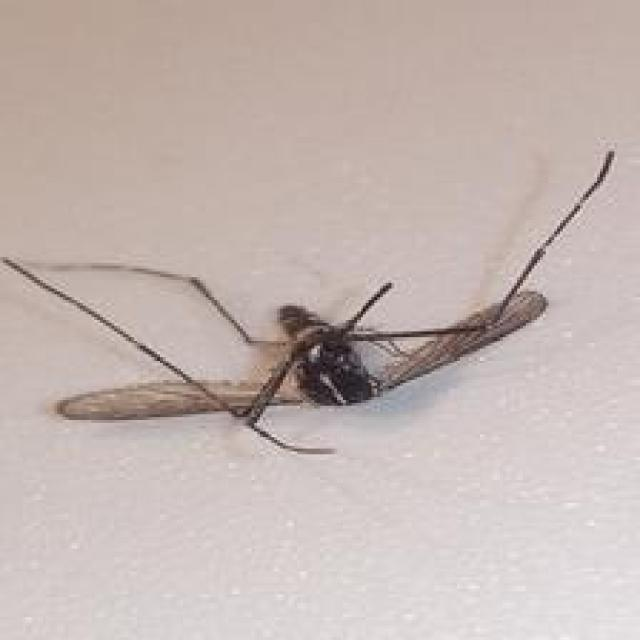Aedes albopictus: (0, 147, 617, 456)
